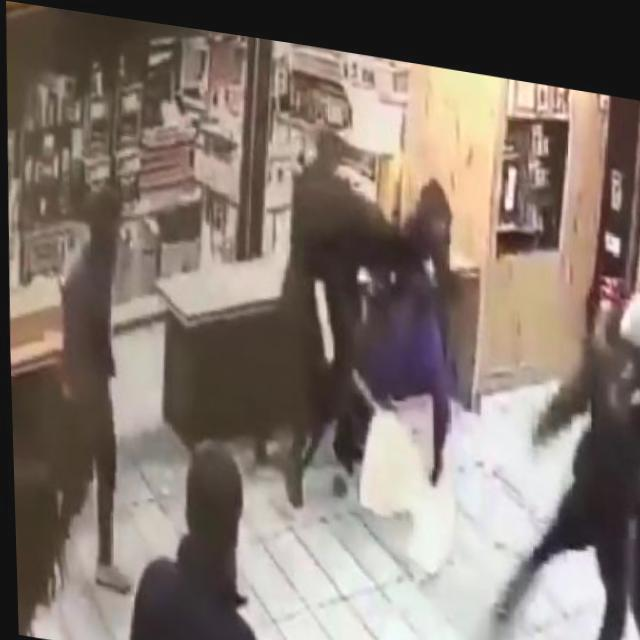fight: (266, 127, 476, 522)
